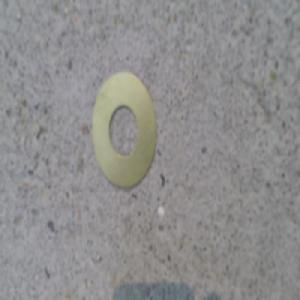Washer: (92, 68, 158, 194)
